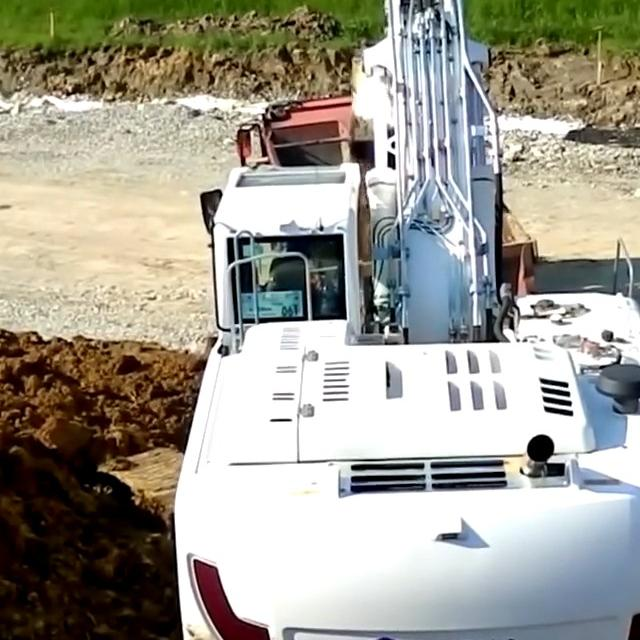machinery: (172, 0, 640, 640)
